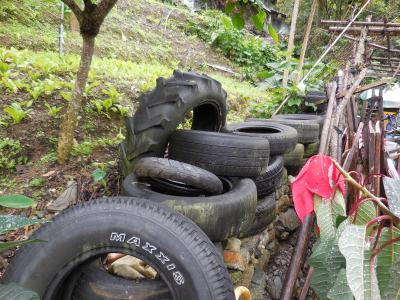tire: (2, 197, 236, 300), (117, 72, 227, 177), (121, 172, 257, 242), (168, 126, 270, 177), (221, 120, 300, 153)
